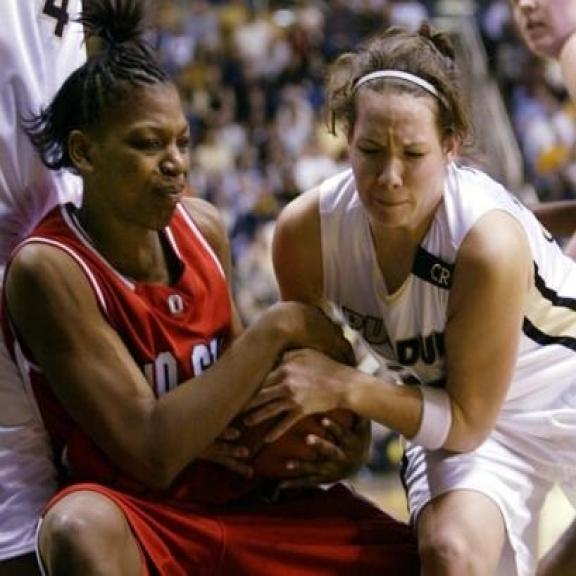face: (47, 71, 193, 237), (336, 96, 465, 229)
